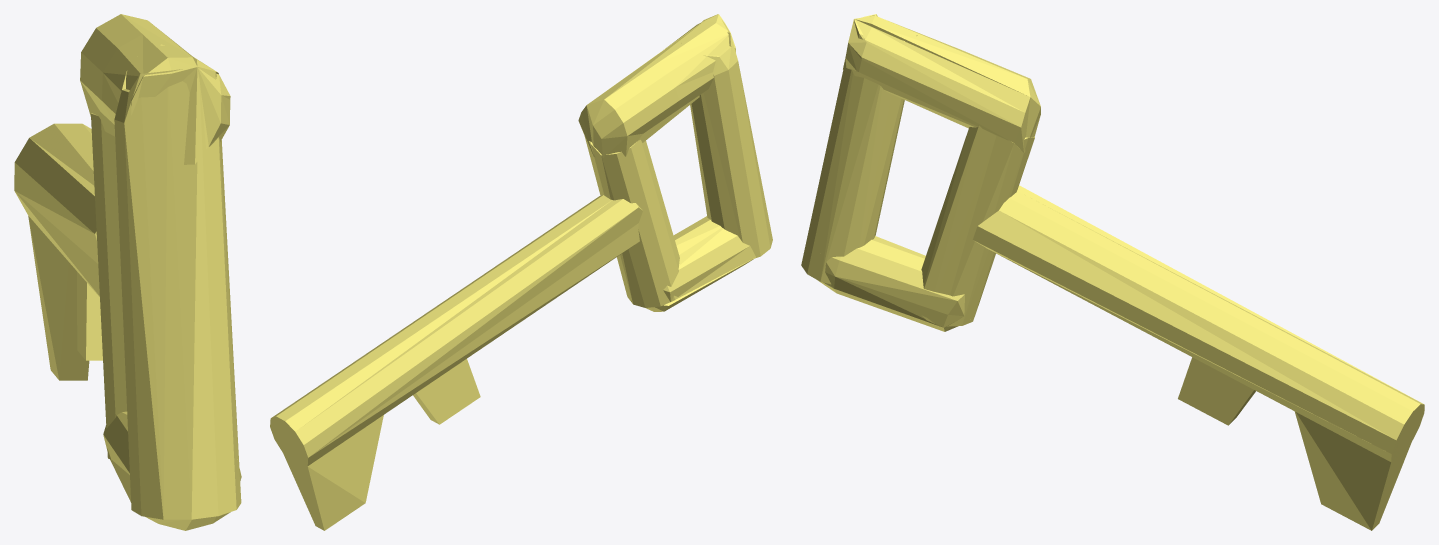
File: golden-key-by-------------eFPxBQQrstn.glb
The picture shows the model from 3 angles, left to right: view 1: azimuth 30°, elevation 25°; view 2: azimuth 150°, elevation 25°; view 3: azimuth 270°, elevation 25°; orthographic projection. The views are drawn at different scales.
Visible parts, largest first — view 1: group1864155398, group1243110963, group970913885, group1425069449, group446615200; view 2: group1243110963, group1864155398, group970913885, group1425069449, group446615200; view 3: group1243110963, group970913885, group1864155398, group1425069449, group446615200.
Boxes of the visible parts, <box> form: group1864155398: <box>114,44,241,519</box>; group1243110963: <box>14,123,102,380</box>; group970913885: <box>80,14,230,164</box>; group1425069449: <box>91,113,126,459</box>; group446615200: <box>103,411,241,530</box>; group1243110963: <box>270,195,642,530</box>; group1864155398: <box>681,14,772,258</box>; group970913885: <box>578,14,735,157</box>; group1425069449: <box>584,136,679,307</box>; group446615200: <box>631,216,755,311</box>; group1243110963: <box>973,185,1424,530</box>; group970913885: <box>843,15,1040,152</box>; group1864155398: <box>801,14,917,284</box>; group1425069449: <box>921,125,1034,326</box>; group446615200: <box>817,236,971,331</box>.
Size of the model in its own units: 0.2298 by 0.3426 by 0.4597.
